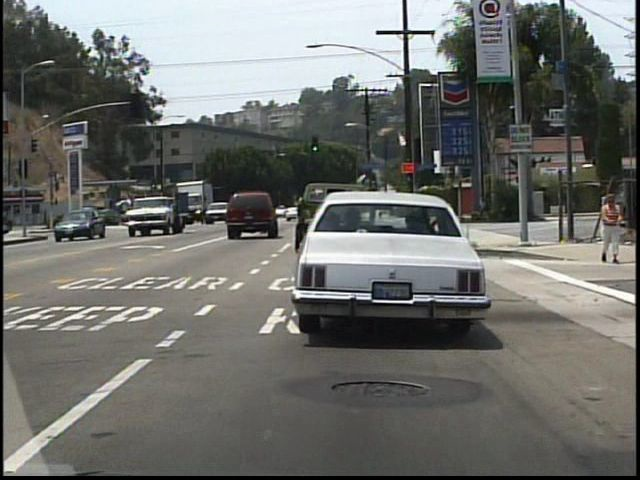person: (597, 192, 623, 264)
